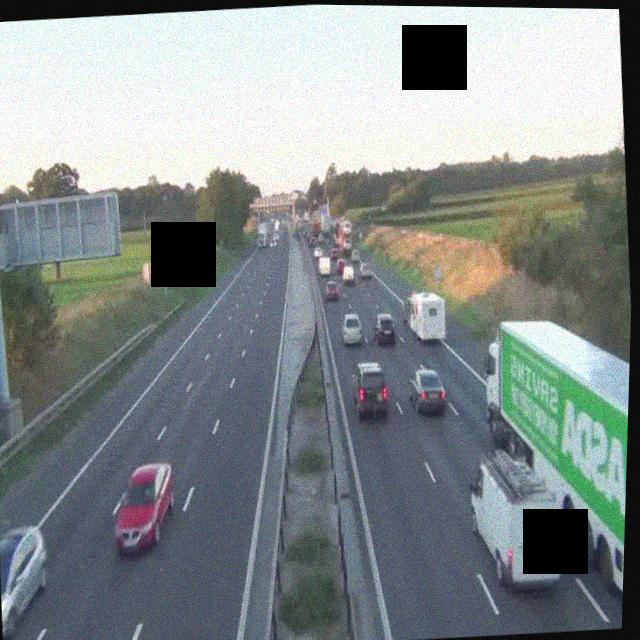car: (110, 462, 179, 557), (0, 523, 55, 640), (352, 360, 390, 419), (407, 366, 448, 414), (372, 311, 397, 346), (341, 315, 364, 344), (325, 279, 341, 301), (340, 261, 354, 283), (359, 260, 373, 280), (330, 250, 344, 269), (353, 253, 362, 267), (313, 244, 322, 257)
truck: (473, 312, 631, 621), (406, 289, 449, 343), (318, 255, 334, 277), (256, 221, 269, 248)
